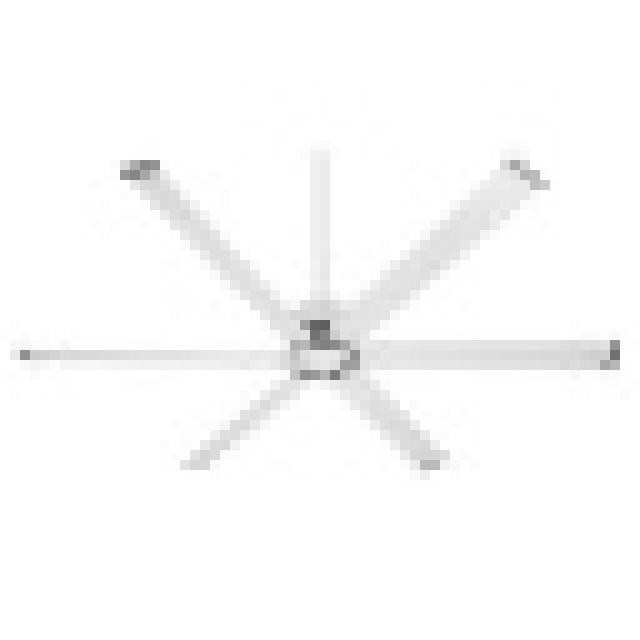Bulb: (7, 117, 640, 538)
